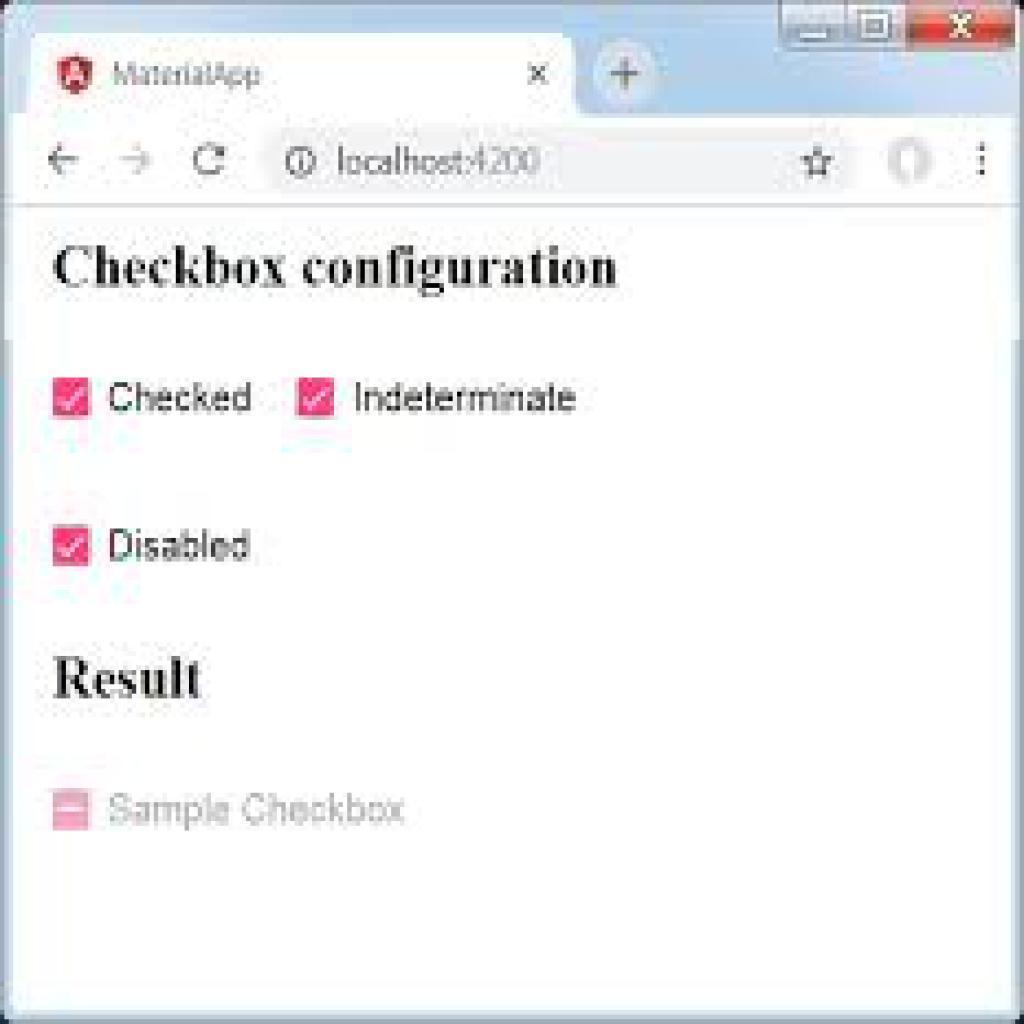checkbox: (53, 377, 91, 417), (52, 788, 90, 828), (298, 377, 334, 419), (56, 526, 91, 567)
label: (49, 233, 623, 304), (109, 789, 420, 831), (347, 373, 588, 417), (46, 651, 209, 702), (107, 374, 258, 424), (110, 522, 261, 572)
